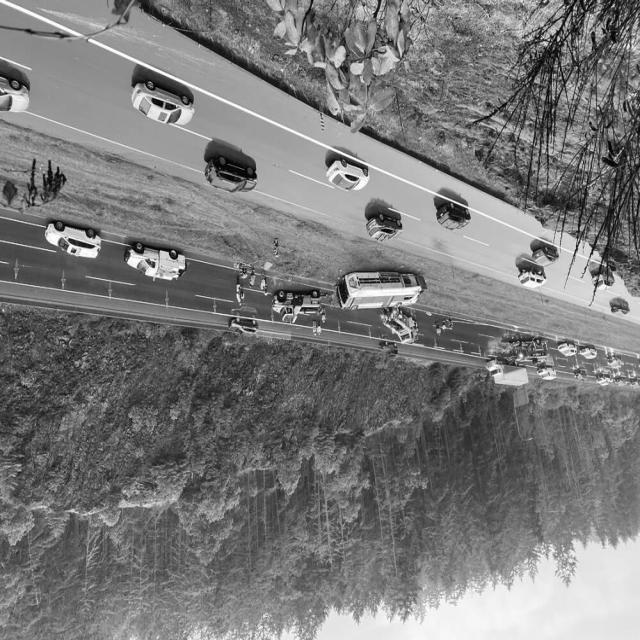severe: (331, 267, 427, 317)
